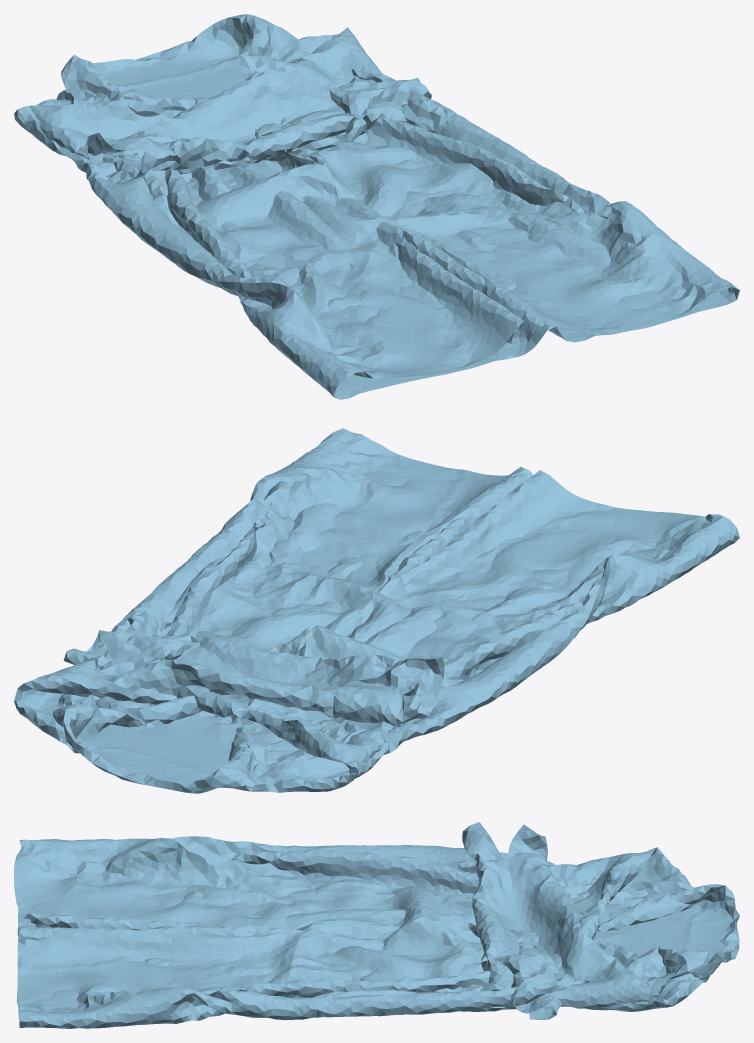
Rendered from frame_20.glb.
3 views of the same model, one above another, from view 1: azimuth 30°, elevation 25°; view 2: azimuth 150°, elevation 25°; view 3: azimuth 270°, elevation 25° (orthographic). The views are drawn at different scales.
Parts seen in each view (by area): view 1: frame_20.obj; view 2: frame_20.obj; view 3: frame_20.obj.
Part boxes in pixels (left/top/right/bottom): frame_20.obj: left=14, top=14, right=739, bottom=399; frame_20.obj: left=14, top=428, right=739, bottom=793; frame_20.obj: left=14, top=822, right=739, bottom=1028.
Bounding box in the file's own units: 0.9617 × 0.1382 × 1.65.
